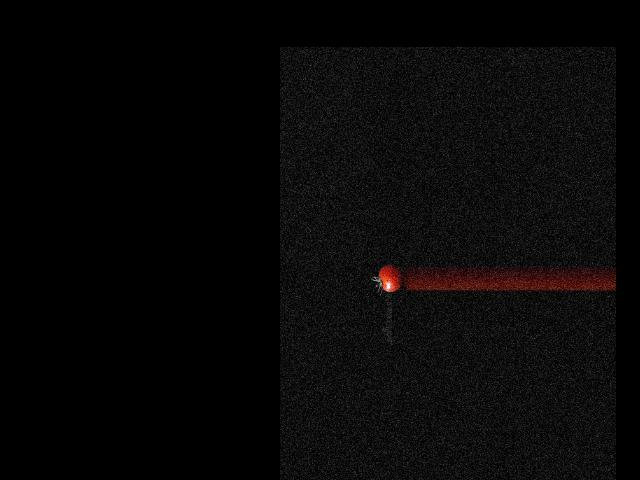tomato: (379, 265, 402, 292)
